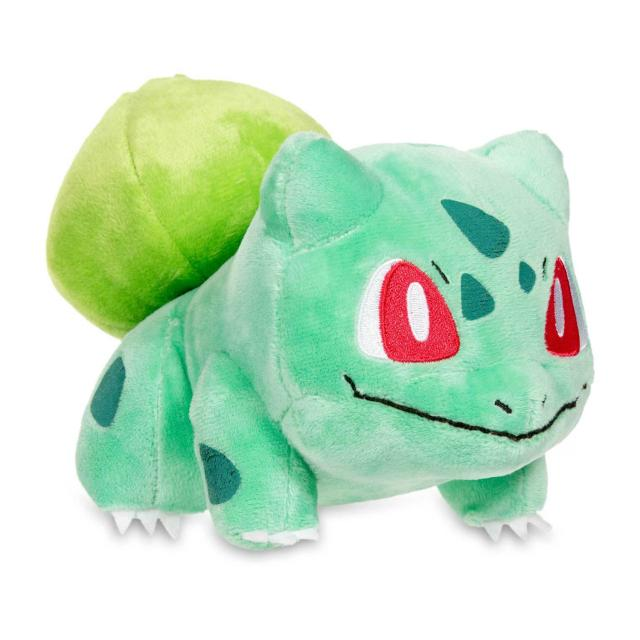Bulbasaur: (40, 65, 605, 548)
